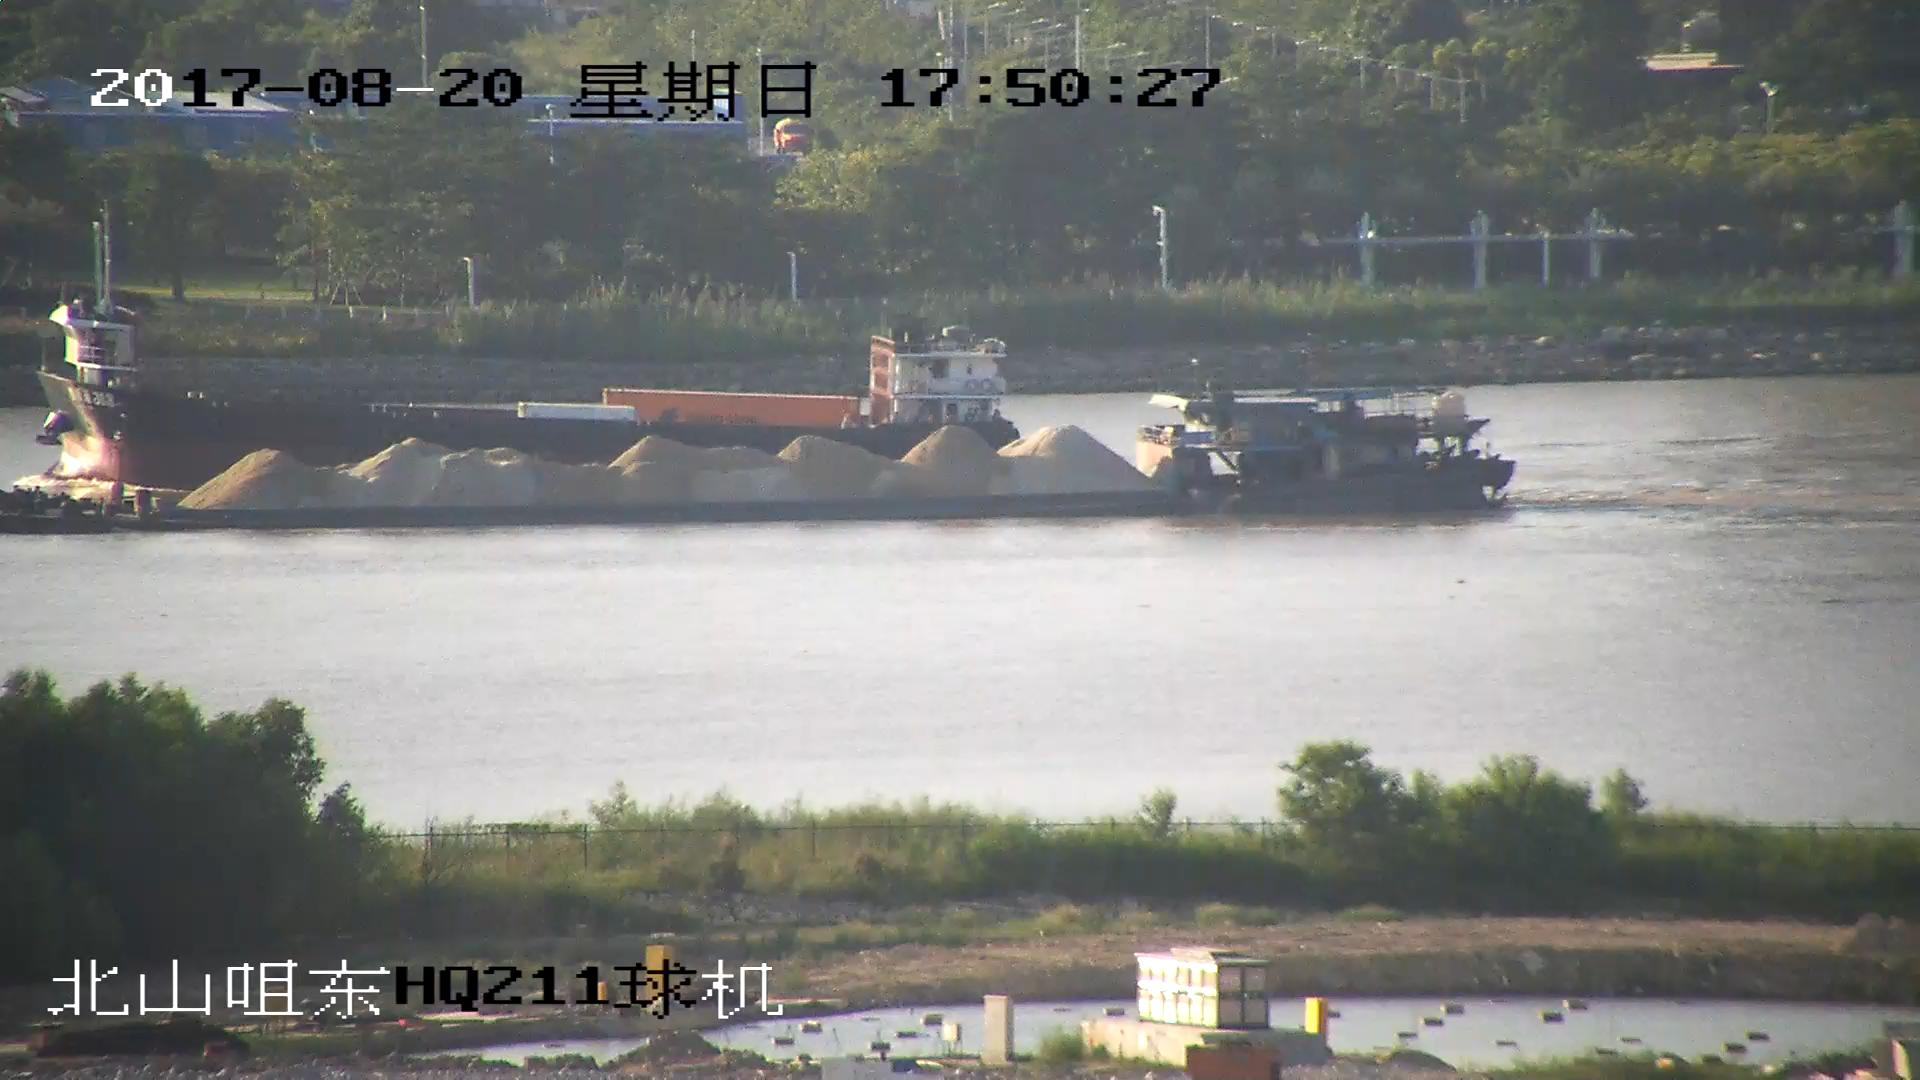general cargo ship: (38, 205, 1023, 484)
ore carrier: (1, 382, 1518, 524)
